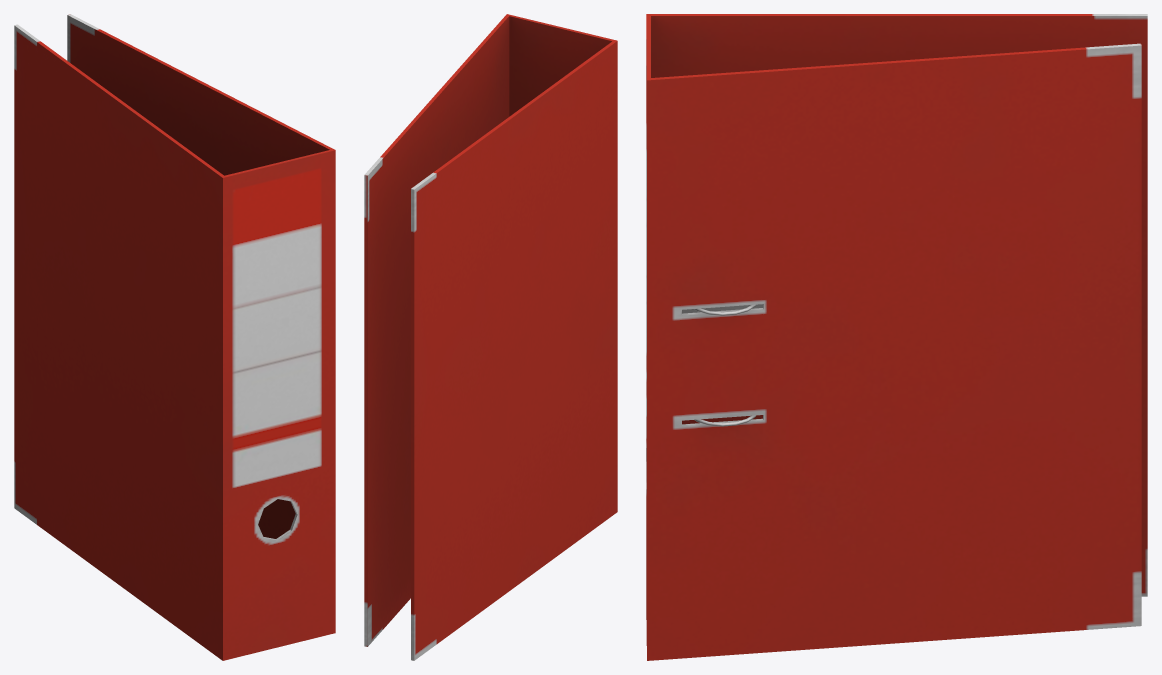
File: ordnerRed.fbx
The picture shows the model from 3 angles, left to right: view 1: azimuth 30°, elevation 25°; view 2: azimuth 150°, elevation 25°; view 3: azimuth 270°, elevation 25°; orthographic projection. The views are drawn at different scales.
Visible parts, largest first — view 1: ordner02; view 2: ordner02; view 3: ordner02.
Part boxes in pixels (<box>): ordner02: <box>14,14,335,660</box>; ordner02: <box>364,14,617,660</box>; ordner02: <box>646,14,1147,660</box>.
Size of the model in its own units: 0.1217 by 0.4957 by 0.3882.
